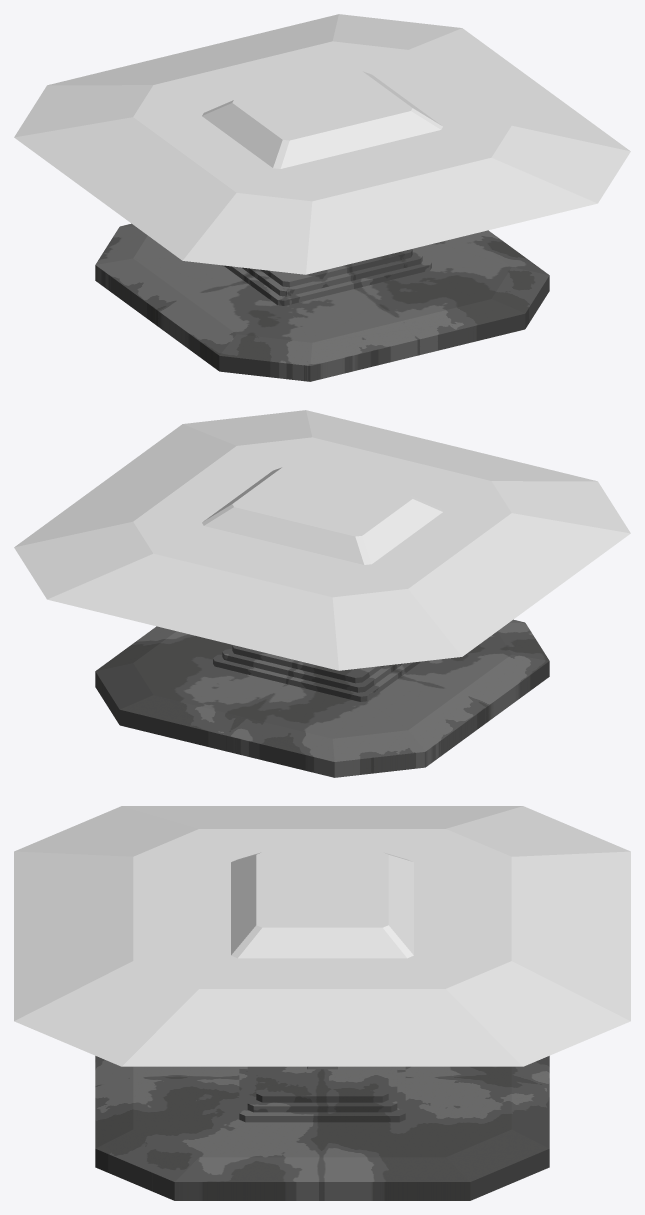
The model's file is altar-colision.fbx.
3 renders of one model, top to bottom at view 1: azimuth 30°, elevation 25°; view 2: azimuth 150°, elevation 25°; view 3: azimuth 270°, elevation 25°, orthographic. The views are drawn at different scales.
Parts seen in each view (by area): view 1: Altar-Environment.001, Altar-Environment; view 2: Altar-Environment.001, Altar-Environment; view 3: Altar-Environment.001, Altar-Environment.
Part boxes in pixels (x1=…): Altar-Environment.001: x1=14, y1=14, x2=630, y2=274; Altar-Environment: x1=95, y1=223, x2=549, y2=381; Altar-Environment.001: x1=14, y1=410, x2=630, y2=670; Altar-Environment: x1=95, y1=619, x2=549, y2=777; Altar-Environment.001: x1=14, y1=806, x2=630, y2=1066; Altar-Environment: x1=95, y1=1056, x2=549, y2=1200.
Bounding box in the file's own units: 2656 × 1021 × 2656.
